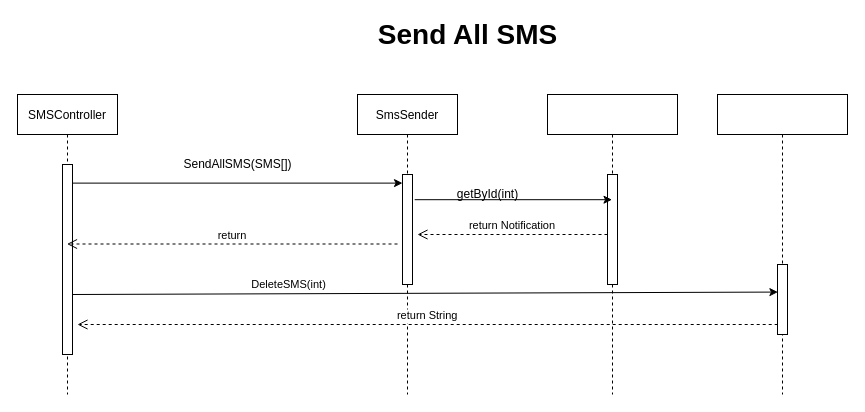
Image size: 865x412. Some labels were removed from this diagram. The shapes that lost their labels are listed below. From the top down, each one's centre as x and y in pixels, then its label:
(612,244): NotificationRepository
(782,244): SMSRepository
